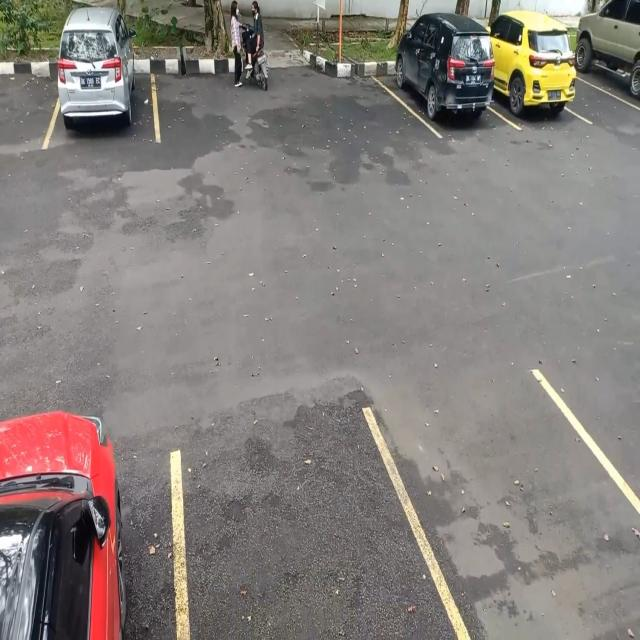empty: (174, 403, 415, 640), (410, 388, 629, 640)
occupied: (40, 10, 159, 149), (394, 23, 496, 141), (496, 13, 584, 132)
